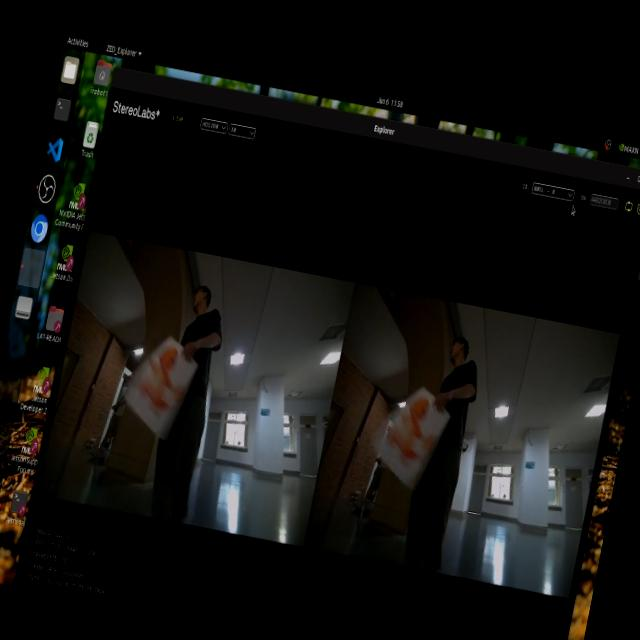red: (382, 390, 438, 468), (136, 348, 186, 422)
